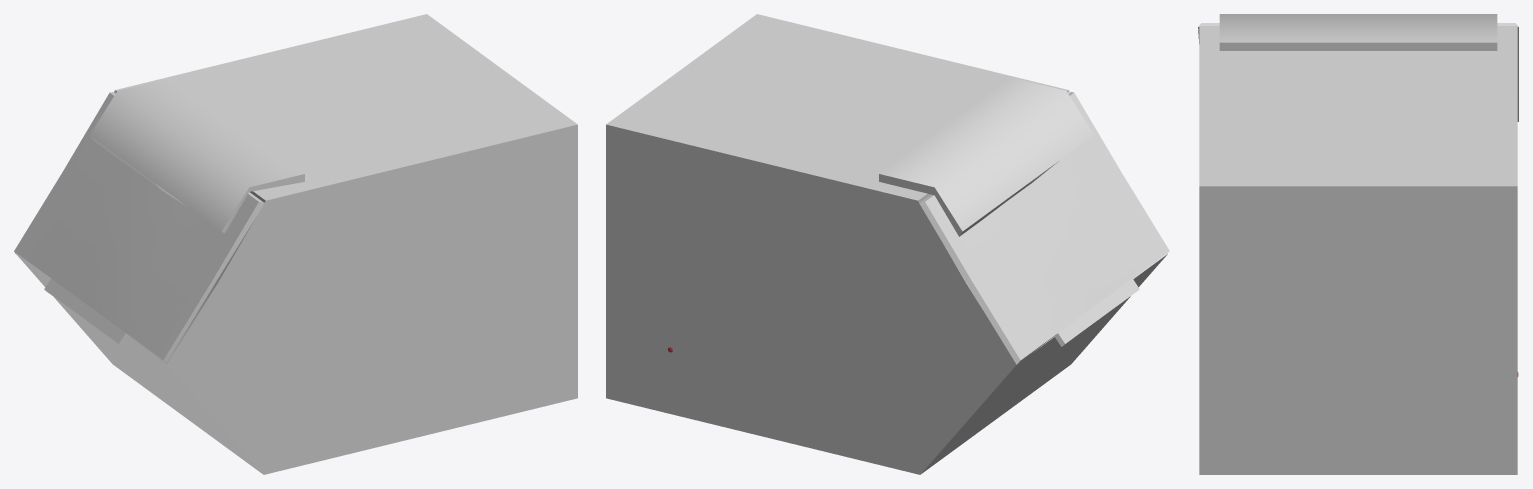
The model's file is Item_MikeIke_5.fbx.
3 views of the same model, side by side, from view 1: azimuth 30°, elevation 25°; view 2: azimuth 150°, elevation 25°; view 3: azimuth 270°, elevation 25° (orthographic). The views are drawn at different scales.
Visible parts, largest first — view 1: Item_GummyWormVar_5; view 2: Item_GummyWormVar_5; view 3: Item_GummyWormVar_5.
Boxes of the visible parts, box(x1,y1,x2,y2) form: Item_GummyWormVar_5: box(14, 14, 577, 474); Item_GummyWormVar_5: box(606, 14, 1169, 474); Item_GummyWormVar_5: box(1198, 14, 1518, 474).
Bounding box in the file's own units: 73.54 × 47.02 × 46.06.
2 materials, 1 textured.
